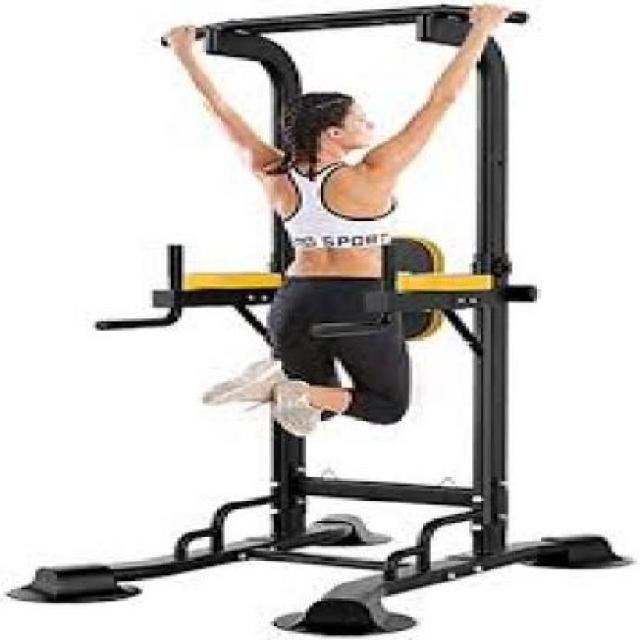chinning dipping: (14, 4, 620, 636)
